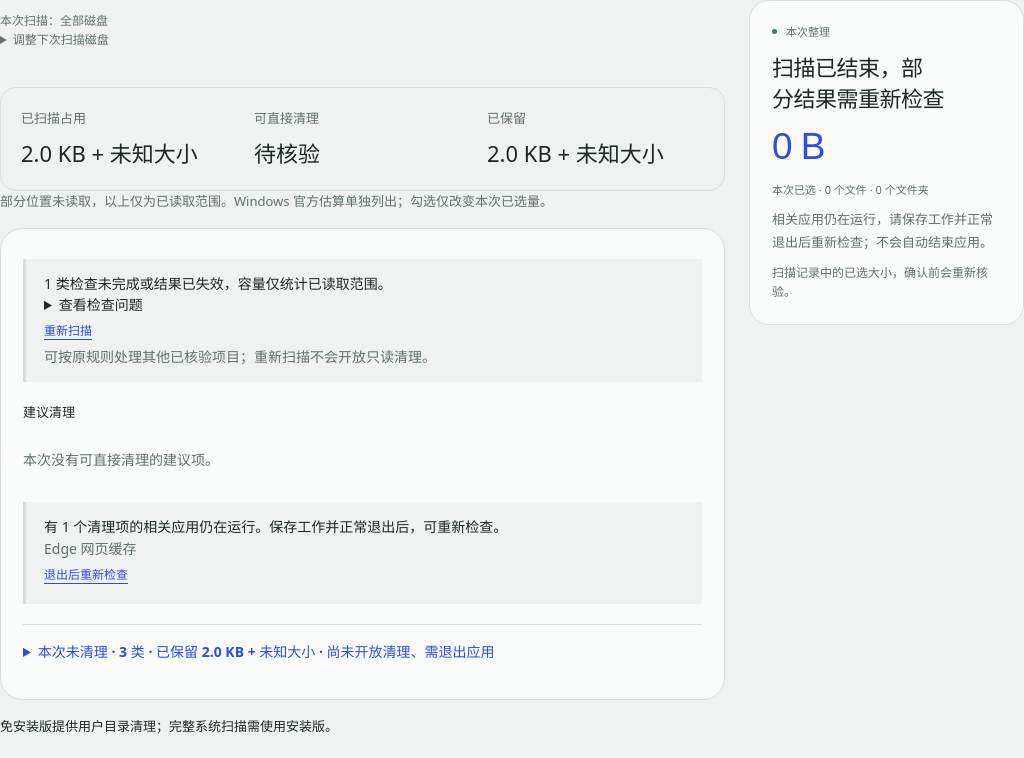
it: counts uncleared categories separately from files and explains the next step without selecting
The image size is (1024, 758).
Step 1. Click the text "本次未清理 · 3 类" → [78, 651], box [38,642,145,661]
(page scrolled)
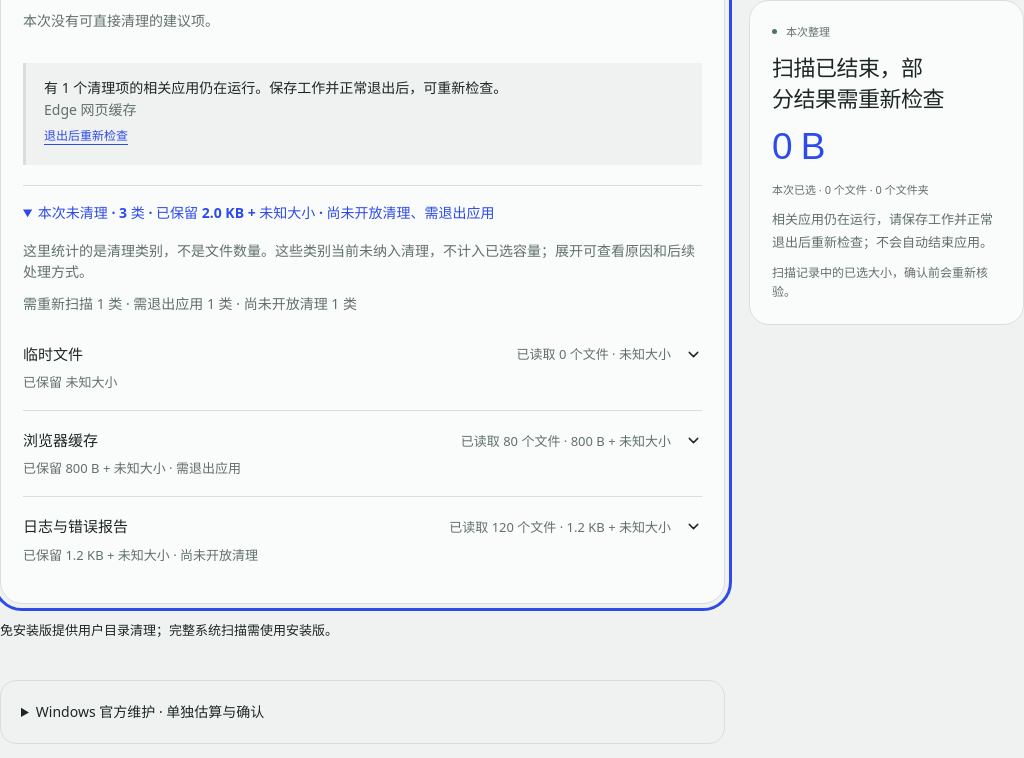
Result: the text "这里统计的是清理类别，不是文件数量。这些类别当前未纳入清理，不计入已选容量；展开可查看原因和后续处理方式。" is shown at [23,240,702,283]
Result: the text "需重新扫描 1 类 · 需退出应用 1 类 · 尚未开放清理 1 类" is shown at [23,294,357,313]
Step 2. Click the button with aria-label "查看浏览器缓存未清理项" → [61, 440], box [23,411,702,496]
(page scrolled)
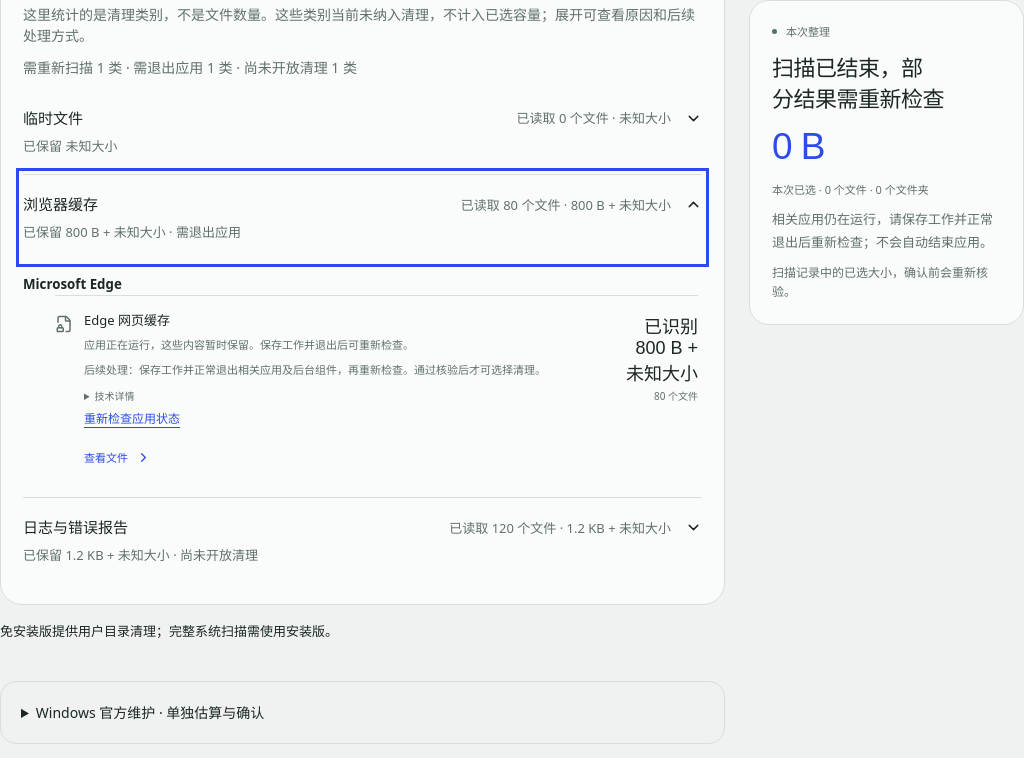
Result: the text "后续处理：保存工作并正常退出相关应用及后台组件，再重新检查。通过核验后才可选择清理。" is shown at [84,360,609,380]
Step 3. Click the button with aria-label "查看日志与错误报告未清理项" → [76, 527], box [23,498,702,584]
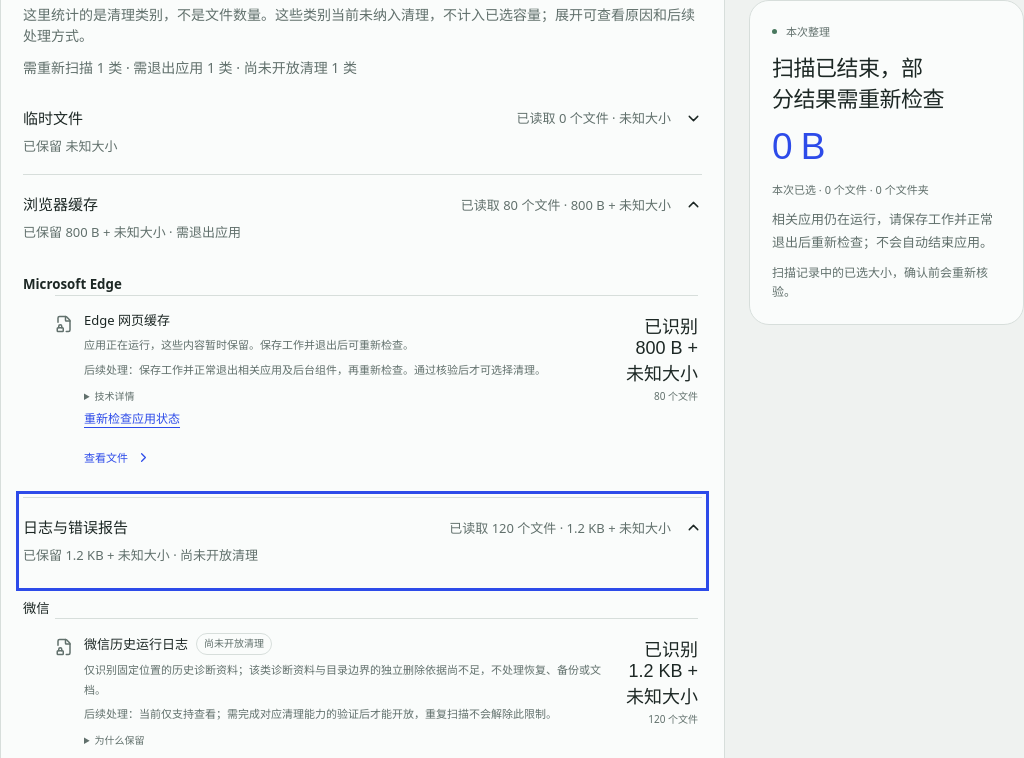
Result: the text "后续处理：当前仅支持查看；需完成对应清理能力的验证后才能开放，重复扫描不会解除此限制。" is shown at [84,704,609,724]
